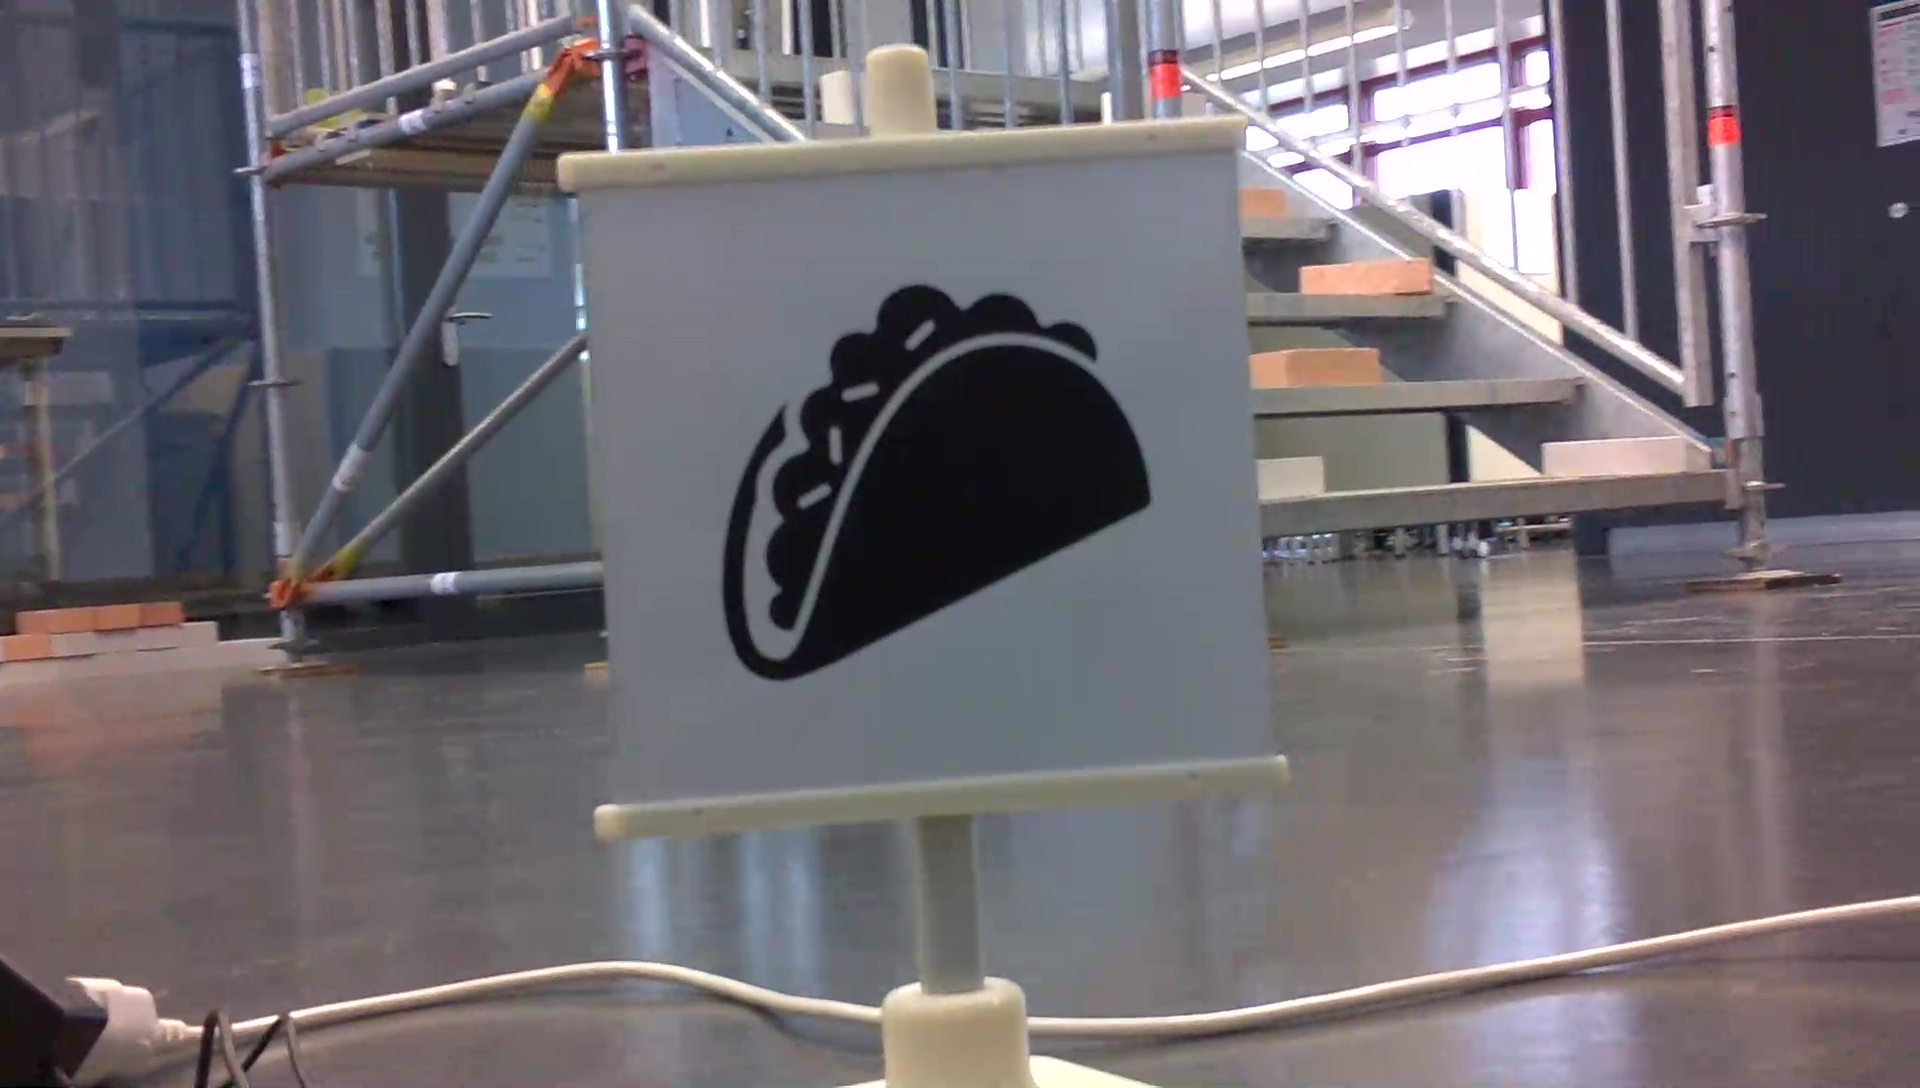brick: (1545, 438, 1685, 472), (1251, 348, 1375, 382), (1302, 262, 1433, 291), (1258, 458, 1323, 497), (1237, 186, 1290, 218)
edge: (1255, 475, 1735, 535), (1251, 376, 1588, 415)
taco: (711, 270, 1163, 688)
